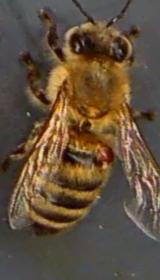varroa_mite: (87, 133, 113, 165)
